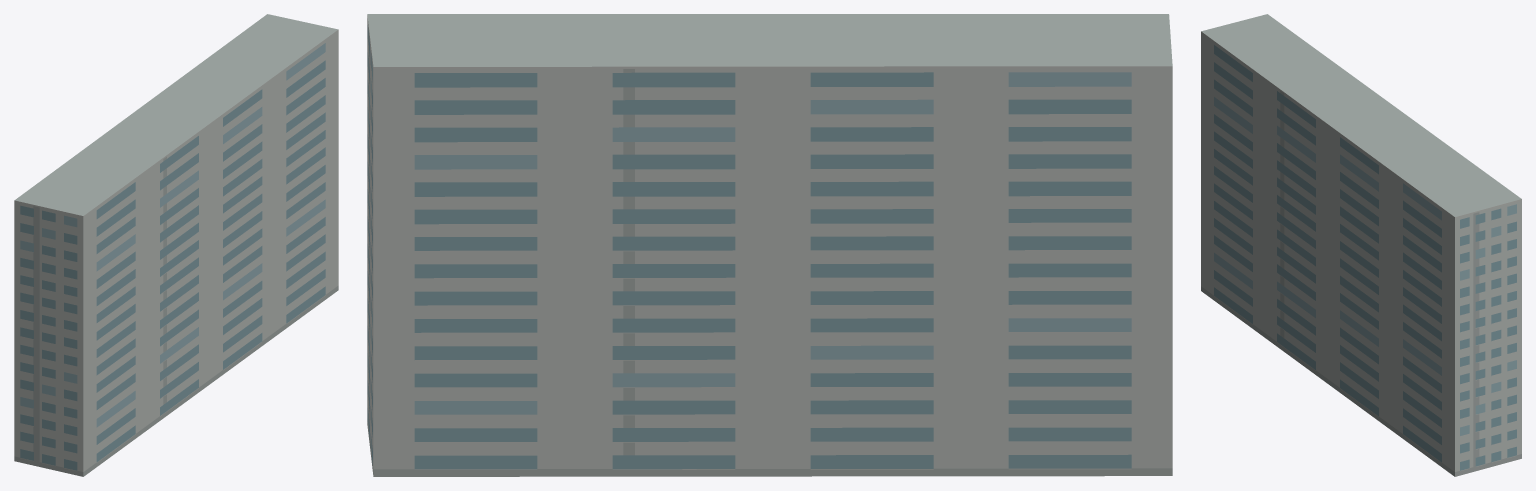
File: residential-23634874-6a4a-44d5-8d39-24ebe0ae07b0.glb
3 views of the same model, side by side, from view 1: azimuth 30°, elevation 25°; view 2: azimuth 150°, elevation 25°; view 3: azimuth 270°, elevation 25° (orthographic). The views are drawn at different scales.
Visible parts, largest first — view 1: residential-23634874-6a4a-44d5-8d39-24ebe0ae07b0.tmp; view 2: residential-23634874-6a4a-44d5-8d39-24ebe0ae07b0.tmp; view 3: residential-23634874-6a4a-44d5-8d39-24ebe0ae07b0.tmp.
Boxes of the visible parts, left/top/right/bottom form: residential-23634874-6a4a-44d5-8d39-24ebe0ae07b0.tmp: left=14, top=14, right=338, bottom=476; residential-23634874-6a4a-44d5-8d39-24ebe0ae07b0.tmp: left=367, top=14, right=1172, bottom=476; residential-23634874-6a4a-44d5-8d39-24ebe0ae07b0.tmp: left=1201, top=14, right=1521, bottom=476.
Size of the model in its own units: 76.8 by 45.75 by 51.24.
